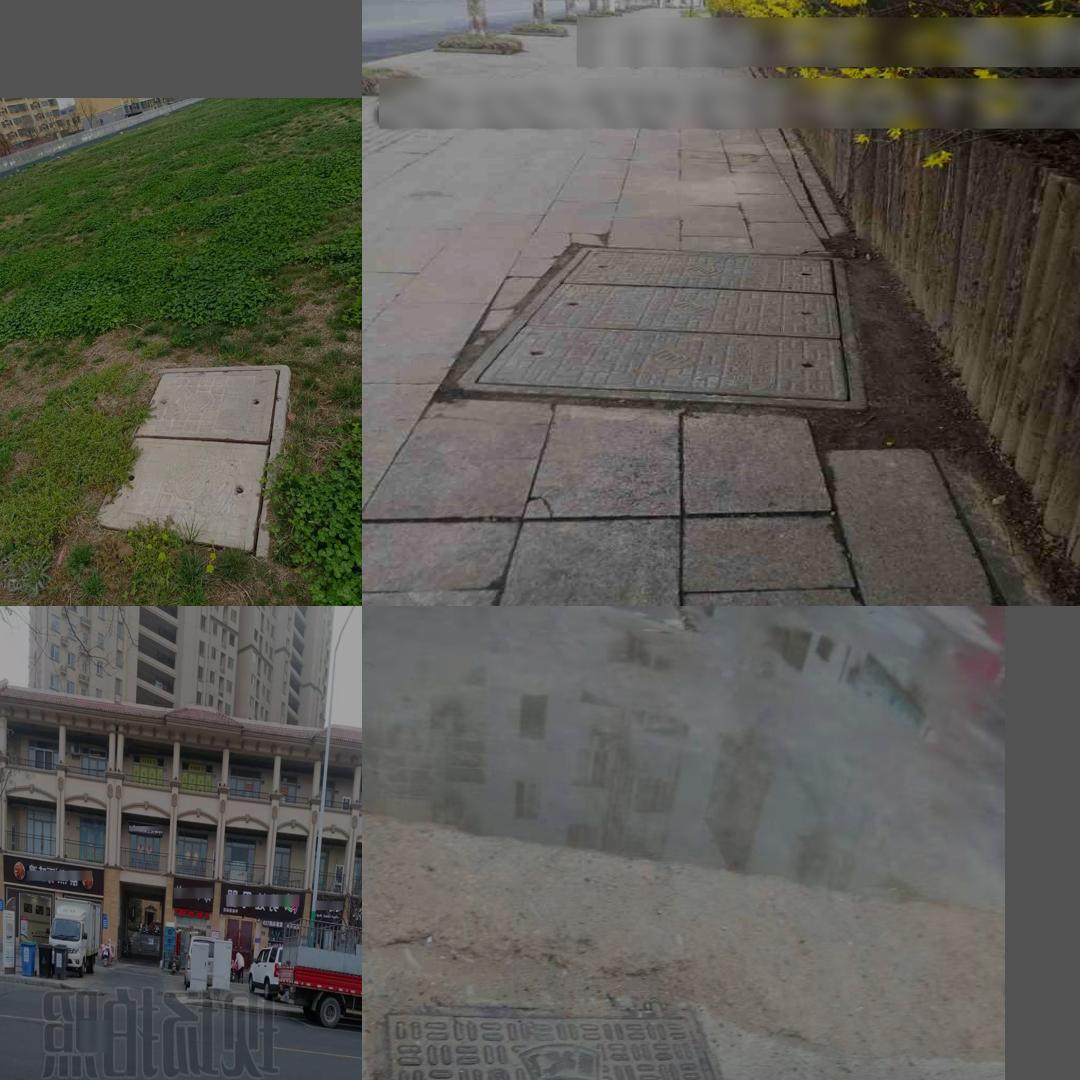good: (448, 246, 863, 408), (91, 364, 292, 559), (370, 1004, 758, 1080)
